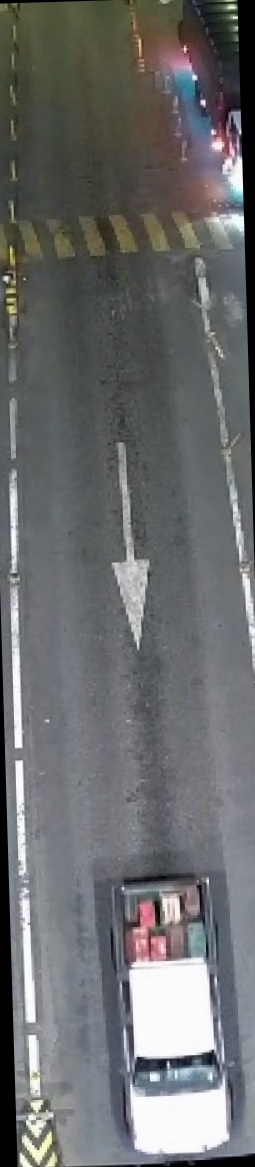car: (95, 855, 244, 1161)
truck: (168, 0, 242, 201)
